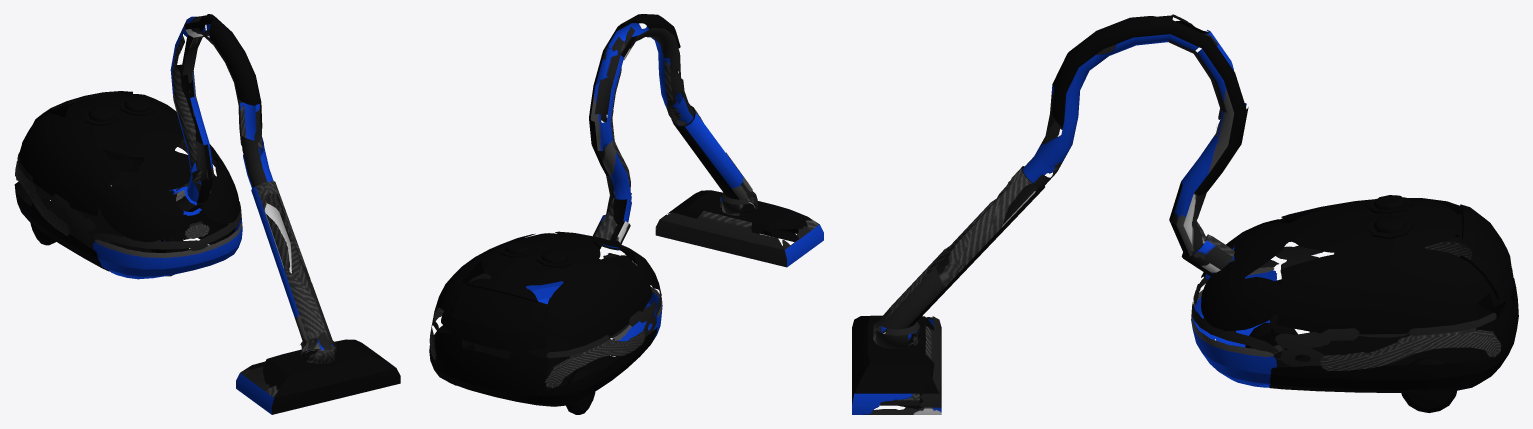
Rendered from VACUUM.fbx.
The picture shows the model from 3 angles, left to right: view 1: azimuth 30°, elevation 25°; view 2: azimuth 150°, elevation 25°; view 3: azimuth 270°, elevation 25°; orthographic projection. The views are drawn at different scales.
Visible parts, largest first — view 1: Cube, Plane, Cube.001, Plane.001, Cylinder; view 2: Cube, Plane, Cube.001, Plane.001, Cylinder; view 3: Cube, Plane, Cube.001, Plane.001, Cylinder, Cylinder.001.
Boxes of the visible parts, box(x1,y1,x2,y2) form: Cube: box(14, 91, 242, 279); Plane: box(170, 14, 273, 211); Cube.001: box(236, 339, 400, 414); Plane.001: box(251, 181, 336, 363); Cylinder: box(30, 190, 174, 245); Cube: box(429, 231, 662, 406); Plane: box(589, 14, 694, 249); Cube.001: box(655, 190, 823, 267); Plane.001: box(671, 106, 757, 215); Cylinder: box(449, 339, 595, 414); Cube: box(1191, 195, 1518, 392); Plane: box(1022, 14, 1248, 275); Cube.001: box(852, 315, 941, 414); Plane.001: box(873, 166, 1044, 349); Cylinder: box(1401, 357, 1456, 412); Cylinder.001: box(1245, 321, 1302, 359).
Bounding box in the file's own units: 147 × 250 × 419.
Materials: 1 (1 with a texture image).
